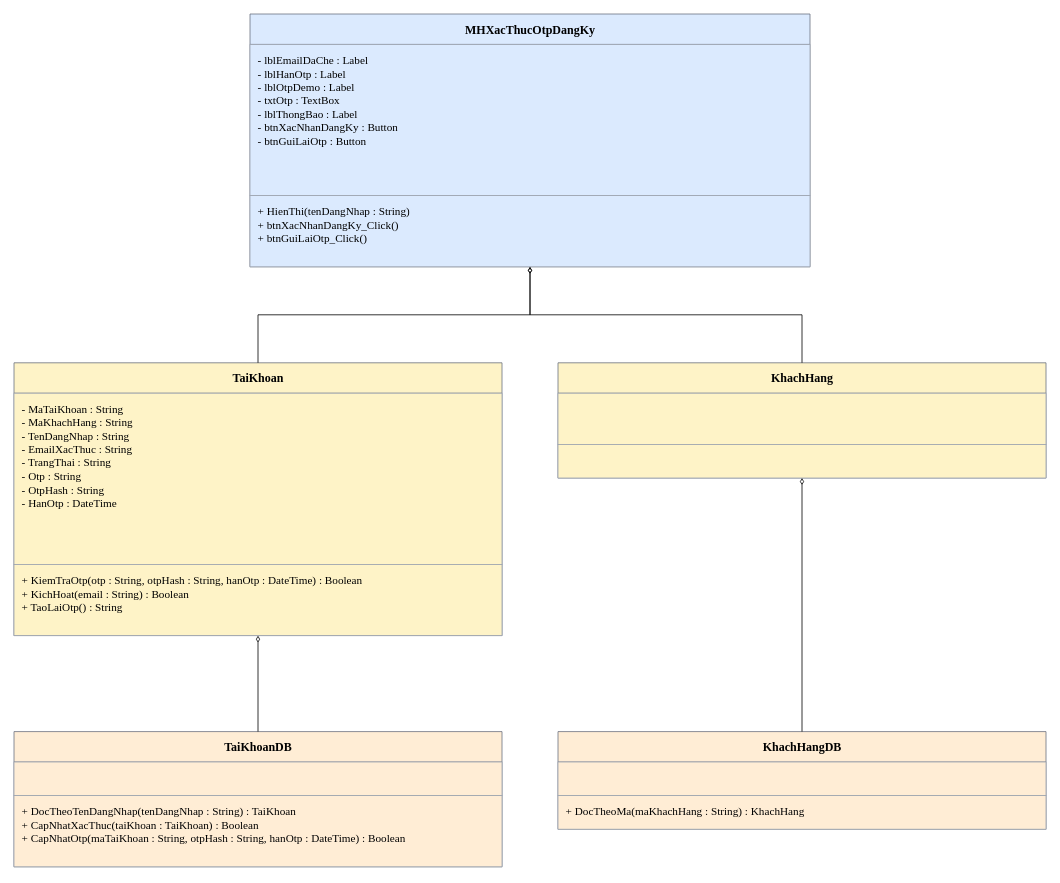
This 1060x883 diagram has some shape labels left out. The shapes that lost their labels are listed below. From the top down, each one's centre as x and y in pixels, then its label:
point (801, 418): - MaKhachHang : String - Email : String
point (801, 461): + LayEmailXacThuc() : String
